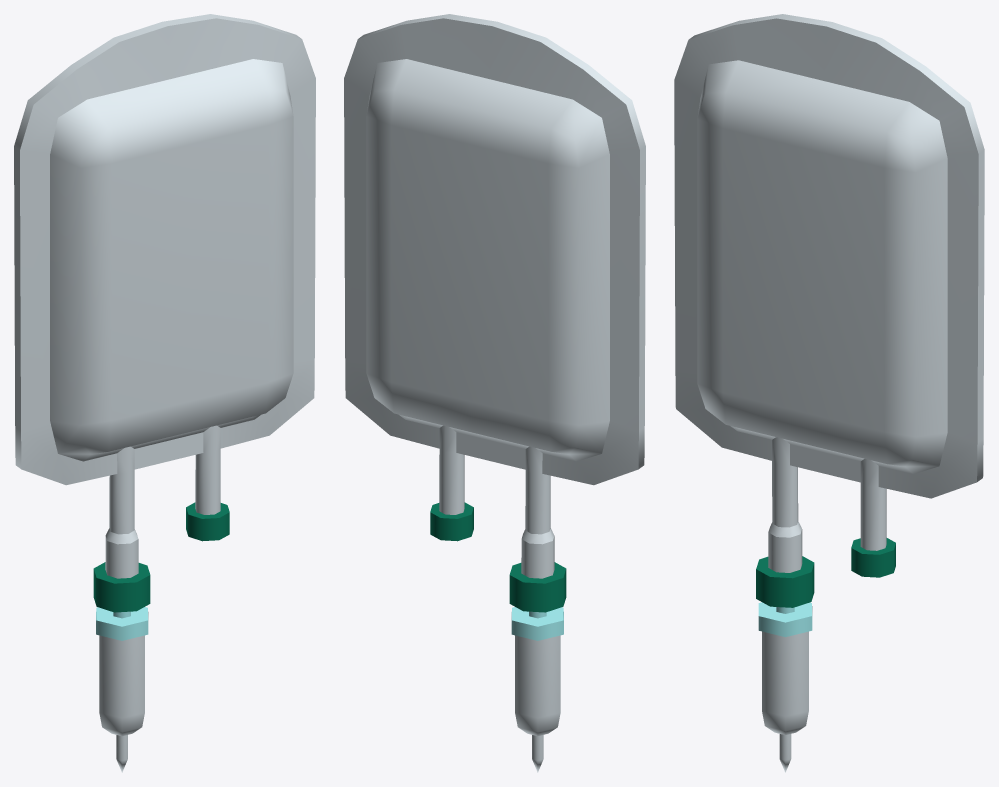
3 renders of one model, left to right at view 1: azimuth 30°, elevation 25°; view 2: azimuth 150°, elevation 25°; view 3: azimuth 330°, elevation 25°, orthographic. The views are drawn at different scales.
Visible parts, largest first — view 1: ColorC, ColorA; view 2: ColorC, ColorA; view 3: ColorC, ColorA.
Boxes of the visible parts, x1,y1,x2,y2 form: ColorC: [14, 14, 315, 578]; ColorA: [93, 502, 229, 772]; ColorC: [344, 14, 645, 578]; ColorA: [430, 502, 566, 772]; ColorC: [674, 14, 984, 572]; ColorA: [756, 538, 895, 772].
Size of the model in its own units: 0.4881 by 1.16 by 0.1437.
Materials: 2 (2 with a texture image).
